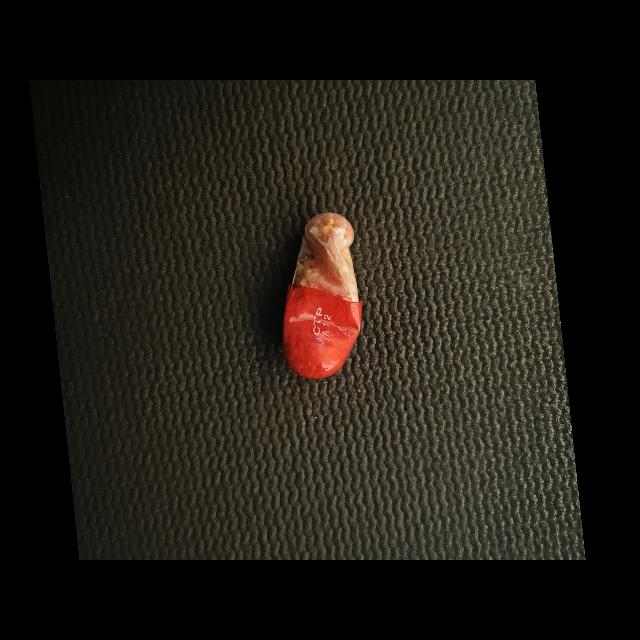Defective Capsule: (283, 213, 362, 378)
